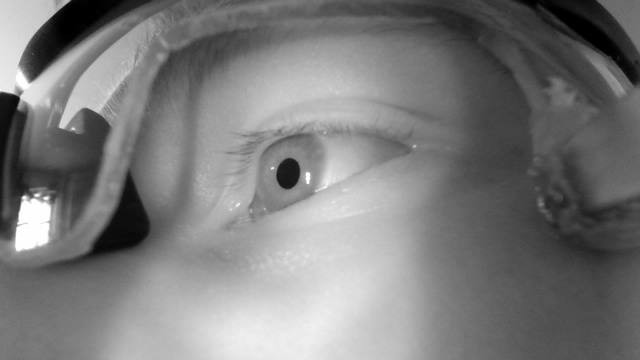pupil: (276, 157, 301, 190)
